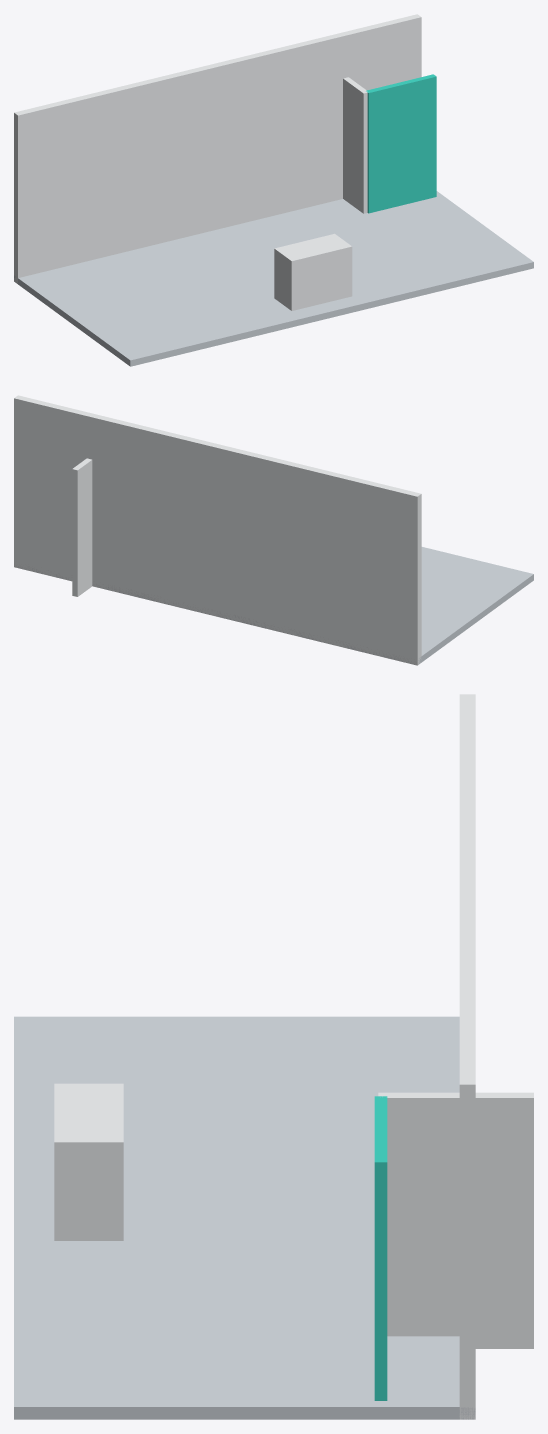
3 renders of one model, top to bottom at view 1: azimuth 30°, elevation 25°; view 2: azimuth 150°, elevation 25°; view 3: azimuth 270°, elevation 25°, orthographic. The views are drawn at different scales.
Visible parts, largest first — view 1: Exhibition Booth Concept; view 2: Exhibition Booth Concept; view 3: Exhibition Booth Concept.
Boxes of the visible parts, <box> form: Exhibition Booth Concept: <box>14,14,533,366</box>; Exhibition Booth Concept: <box>14,395,533,665</box>; Exhibition Booth Concept: <box>14,694,533,1419</box>.
Bounding box in the file's own units: 8 × 3.2 × 4.51.
